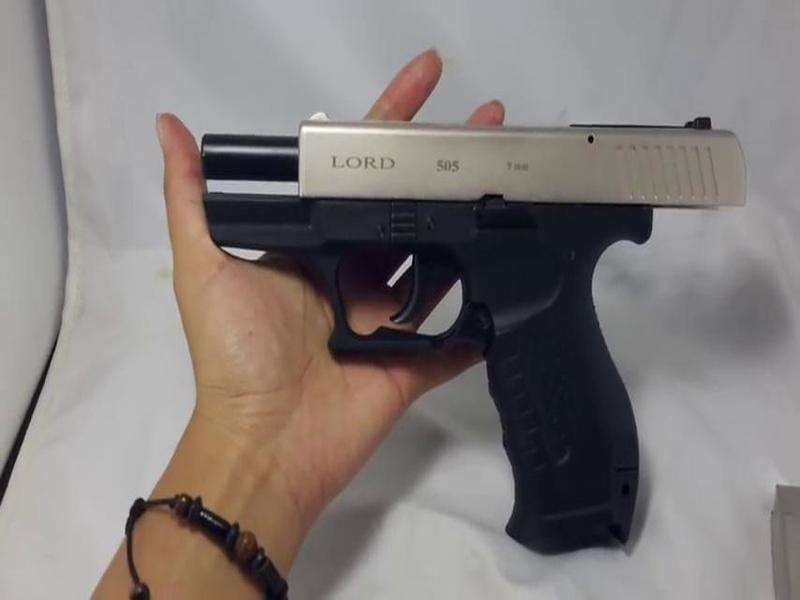Pistola: (170, 79, 747, 550)
